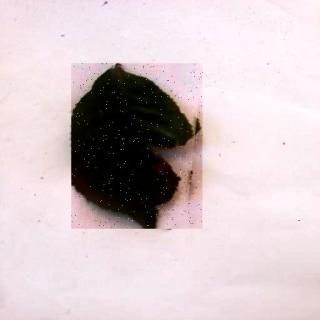Brown Blight: (73, 64, 205, 230)
